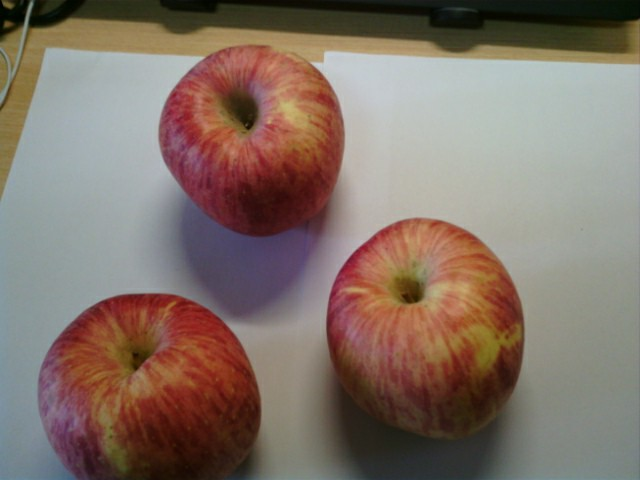normal_apple: (328, 218, 526, 437), (40, 293, 261, 480), (157, 45, 346, 240)
